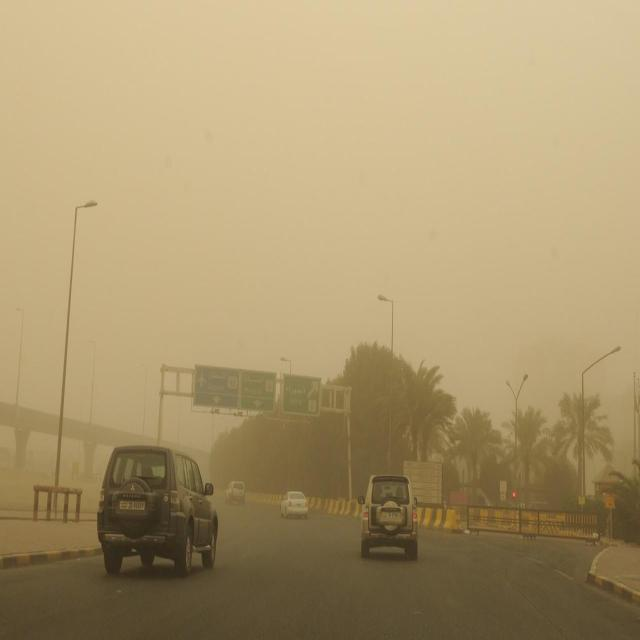Car: (94, 443, 221, 578), (356, 474, 422, 560), (279, 491, 309, 520), (224, 481, 246, 507)
